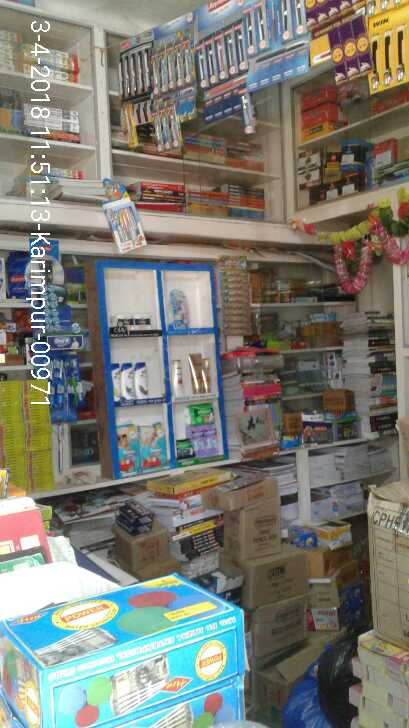venus: (170, 288, 188, 328)
